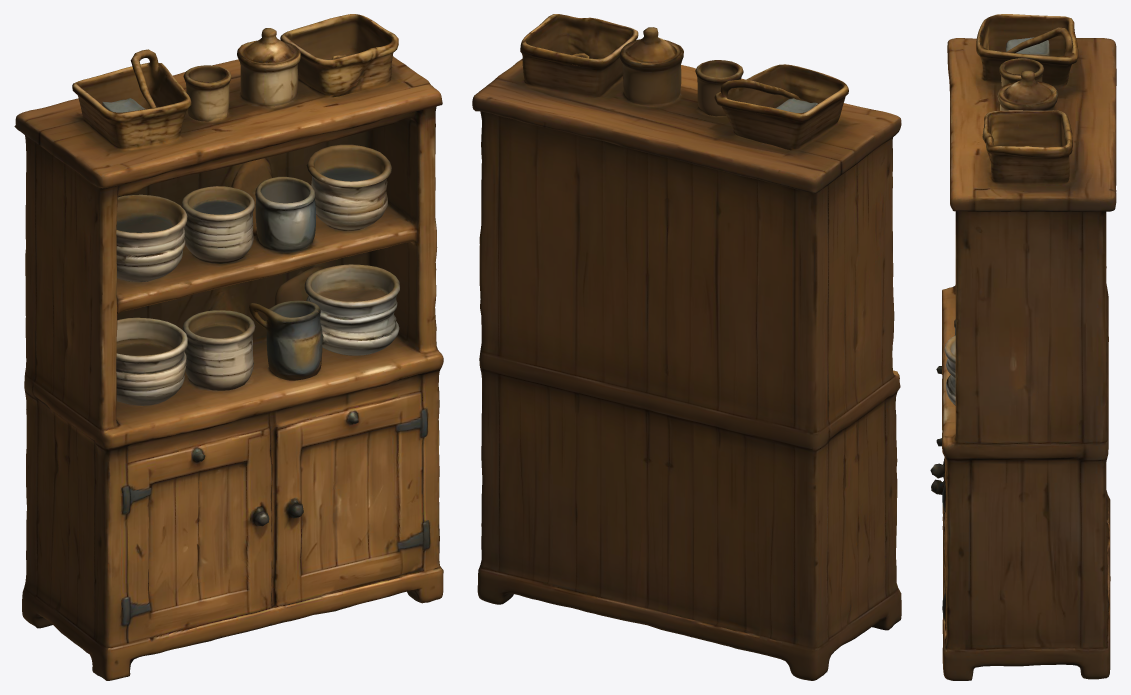
File: dish-cabinet.glb
3 views of the same model, side by side, from view 1: azimuth 30°, elevation 25°; view 2: azimuth 150°, elevation 25°; view 3: azimuth 270°, elevation 25° (orthographic). The views are drawn at different scales.
Visible parts, largest first — view 1: tripo_node_2fade497; view 2: tripo_node_2fade497; view 3: tripo_node_2fade497.
Part boxes in pixels (bbox=[...]): tripo_node_2fade497: bbox=[14, 14, 443, 680]; tripo_node_2fade497: bbox=[472, 14, 901, 680]; tripo_node_2fade497: bbox=[930, 14, 1116, 680].
Size of the model in its own units: 61.86 by 97.85 by 30.12.
1 material, 1 textured.
